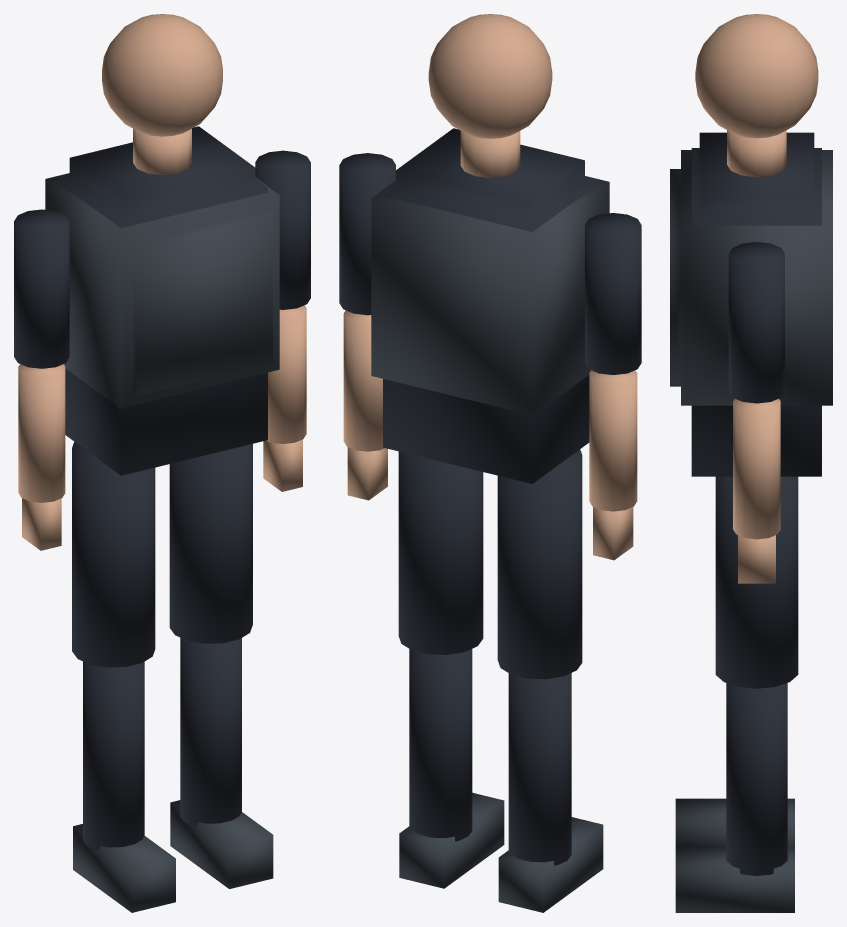
The model's file is humanoid_character.fbx.
The picture shows the model from 3 angles, left to right: view 1: azimuth 30°, elevation 25°; view 2: azimuth 150°, elevation 25°; view 3: azimuth 270°, elevation 25°; orthographic projection.
Visible parts, largest first — view 1: HumanoidCharacter; view 2: HumanoidCharacter; view 3: HumanoidCharacter.
Part boxes in pixels (box(x1,y1,x2,y2)): HumanoidCharacter: box(14, 14, 310, 912); HumanoidCharacter: box(339, 14, 641, 912); HumanoidCharacter: box(670, 14, 832, 912).
Size of the model in its own units: 0.624 by 1.75 by 0.3.
